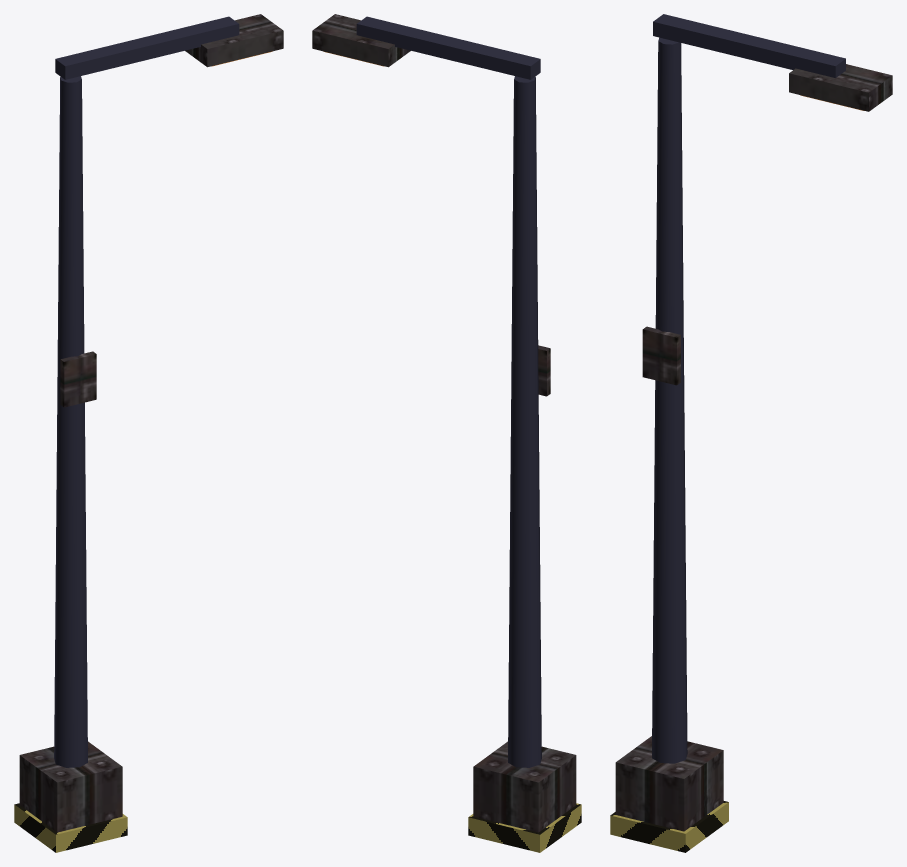
Rendered from prop_lamp_post.glb.
3 renders of one model, left to right at view 1: azimuth 30°, elevation 25°; view 2: azimuth 150°, elevation 25°; view 3: azimuth 330°, elevation 25°, orthographic. The views are drawn at different scales.
Visible parts, largest first — view 1: prop_lamp_post; view 2: prop_lamp_post; view 3: prop_lamp_post.
Part boxes in pixels (bbox=[...]): prop_lamp_post: bbox=[14, 14, 283, 852]; prop_lamp_post: bbox=[312, 14, 581, 852]; prop_lamp_post: bbox=[610, 14, 892, 852].
Bounding box in the file's own units: 2.18 × 6.76 × 0.66.
Materials: 5 (3 with a texture image).
